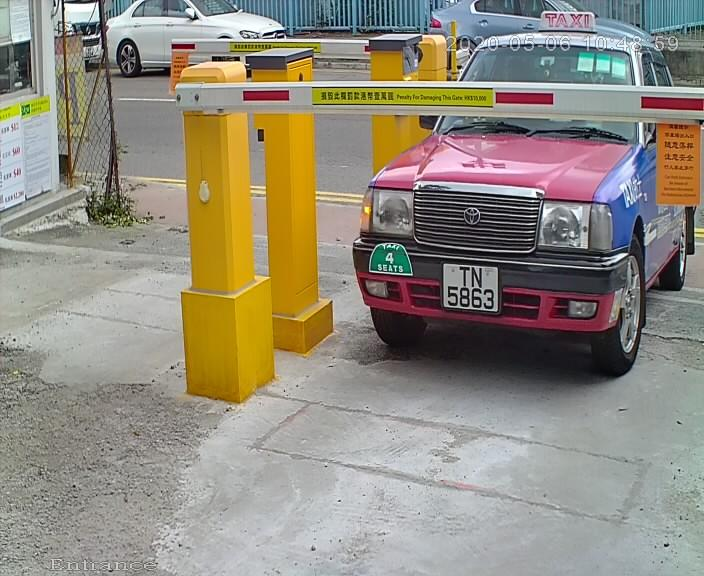Car: (339, 7, 704, 385)
License Plate: (434, 258, 507, 319)
